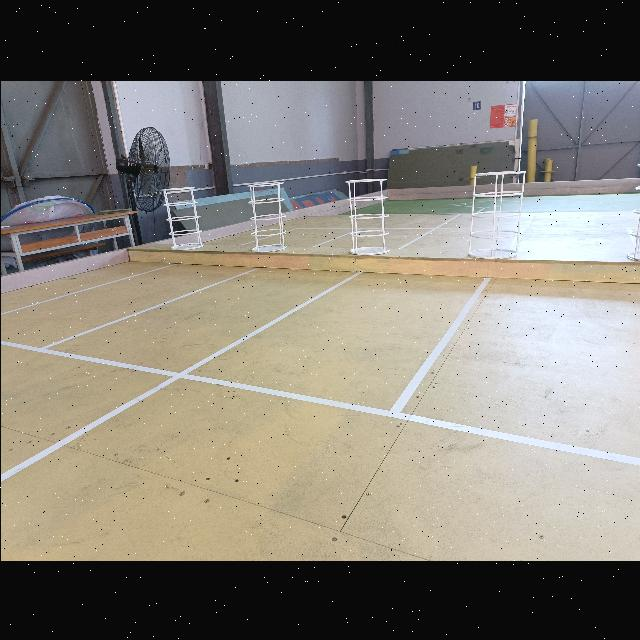S: (467, 168, 526, 258), (344, 178, 389, 254), (245, 181, 287, 252), (159, 186, 203, 250), (626, 163, 640, 260)
